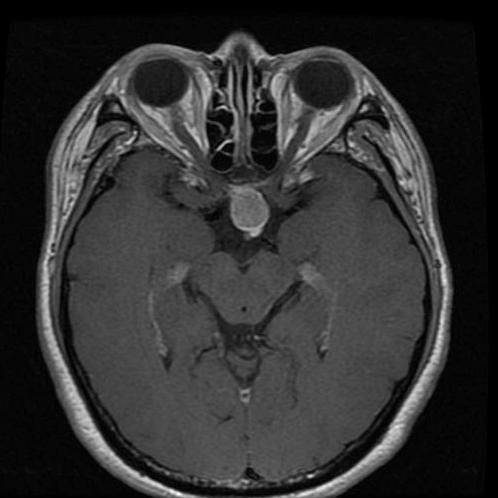Tumour-Pituitary: (231, 185, 270, 237)
